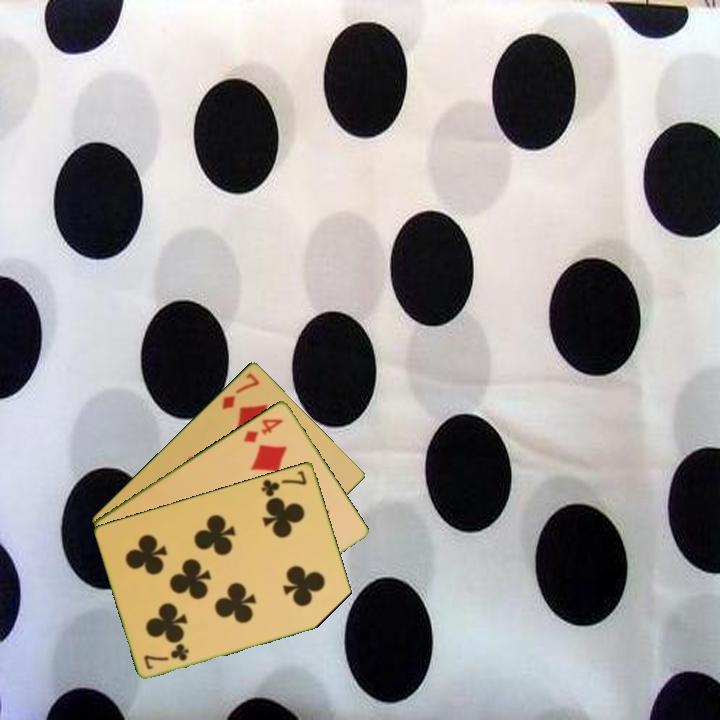4d: (240, 414, 286, 445)
7c: (258, 467, 310, 499), (140, 640, 192, 672)
7d: (218, 368, 262, 412)
